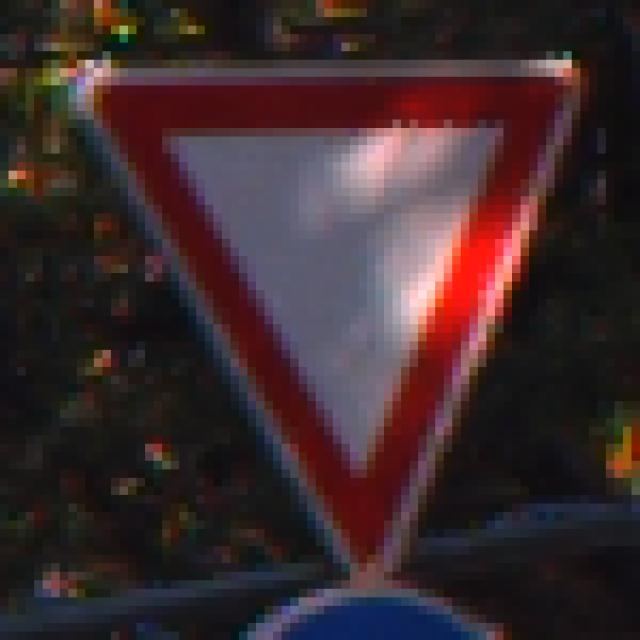Give Way: (52, 52, 590, 590)
